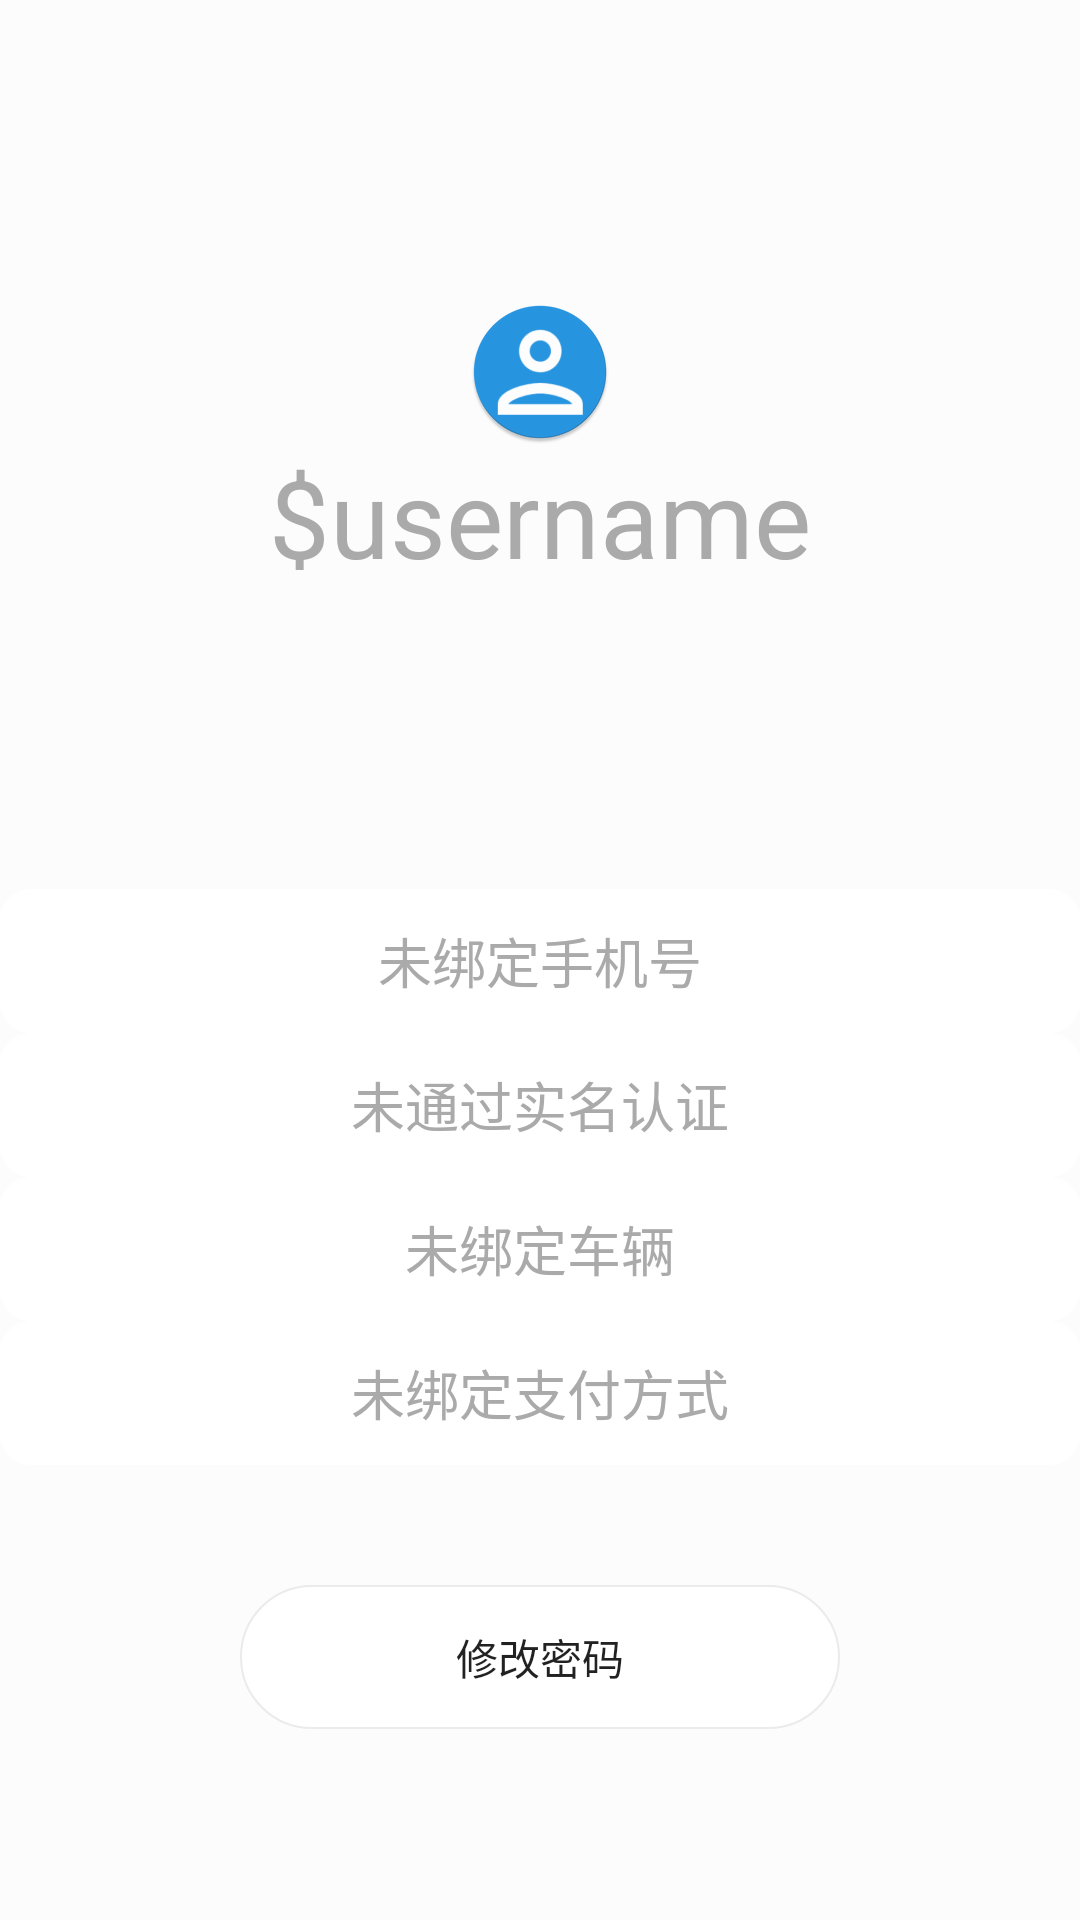

Icons on this 1080w x 1920h Android screen, each with the point to tap as point (x, y):
head round: point (540, 373)
